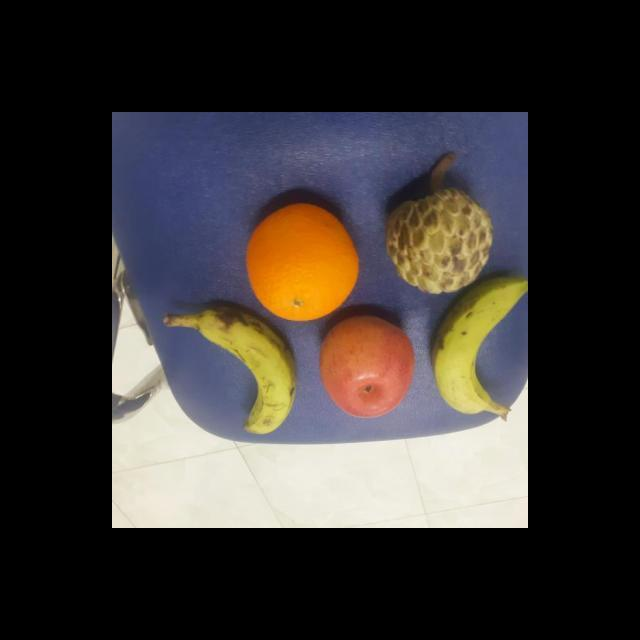Sakya fruit: (381, 192, 496, 294)
apple: (316, 314, 418, 422)
banana: (428, 272, 528, 420), (191, 305, 302, 438)
orange: (245, 204, 364, 322)
